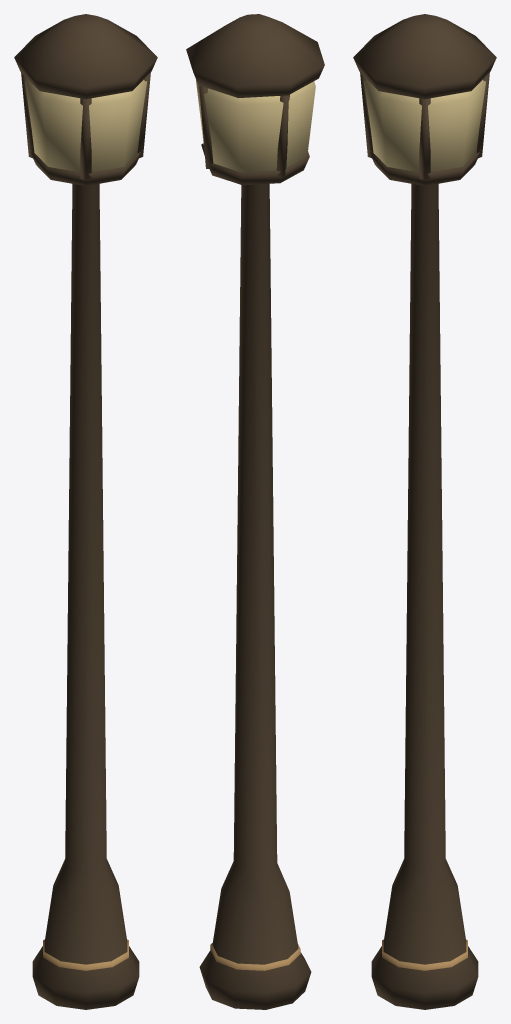
The model's file is lamp_single.glb.
3 renders of one model, left to right at view 1: azimuth 90°, elevation 25°; view 2: azimuth 210°, elevation 25°; view 3: azimuth 270°, elevation 25°, orthographic.
Parts seen in each view (by area): view 1: lamp_single; view 2: lamp_single; view 3: lamp_single.
Boxes of the visible parts, x1,y1,x2,y2 form: lamp_single: [14, 14, 157, 1009]; lamp_single: [186, 14, 324, 1009]; lamp_single: [353, 14, 496, 1009].
Bounding box in the file's own units: 0.46 × 3.42 × 0.46.
